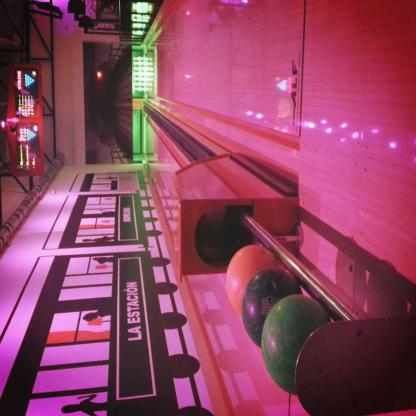Ball: (261, 295, 333, 397), (239, 268, 303, 351), (226, 245, 278, 321)
